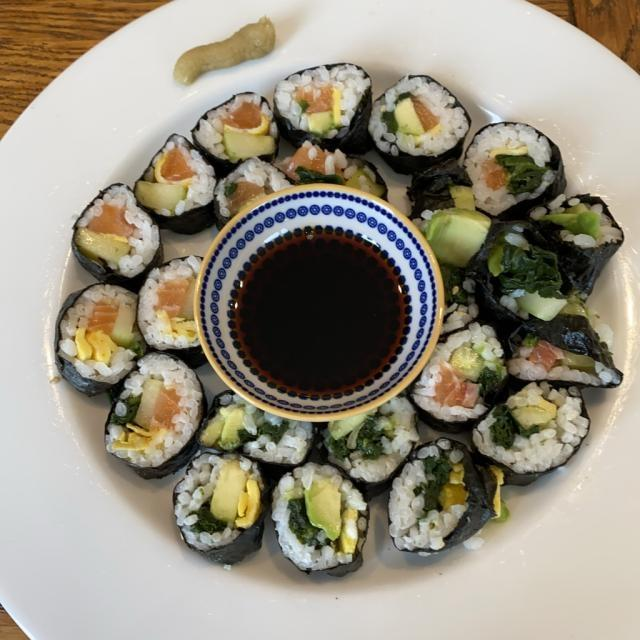sushi: (41, 59, 619, 578)
